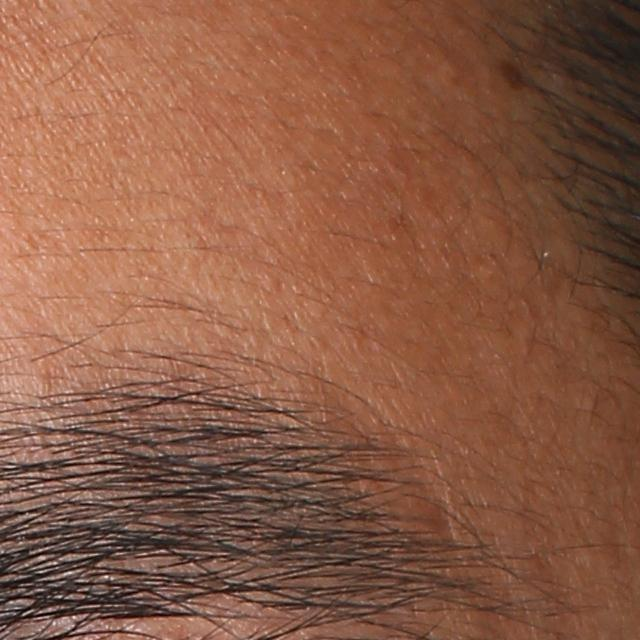nevus: (503, 60, 528, 89)
